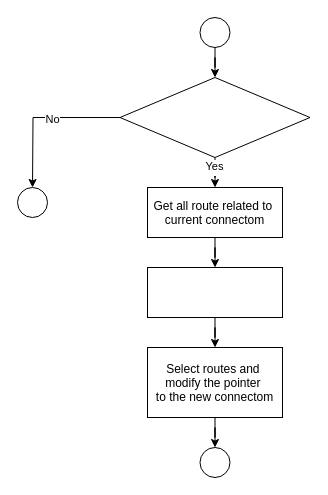
Some shapes in this 328 by 495 pixel diagram are drawn without their labels. The box of each missing label's shape, as (x1, y1, x2, y2) in pixels:
Copy a new connectom: (146, 266, 282, 318)
If current connectom accumulates enough information?: (119, 76, 310, 158)
